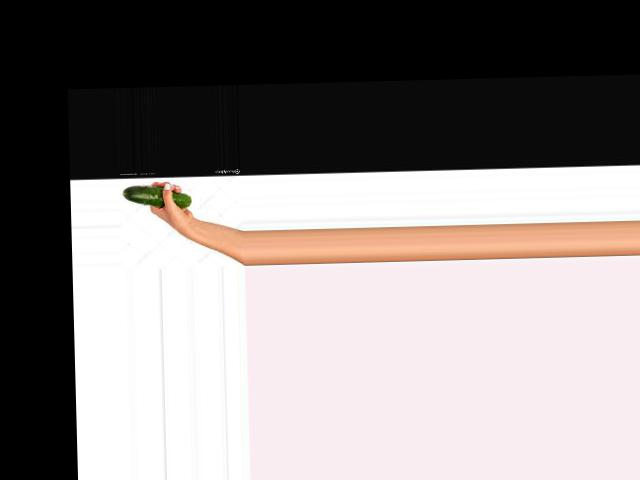cucumber: (121, 183, 190, 209)
